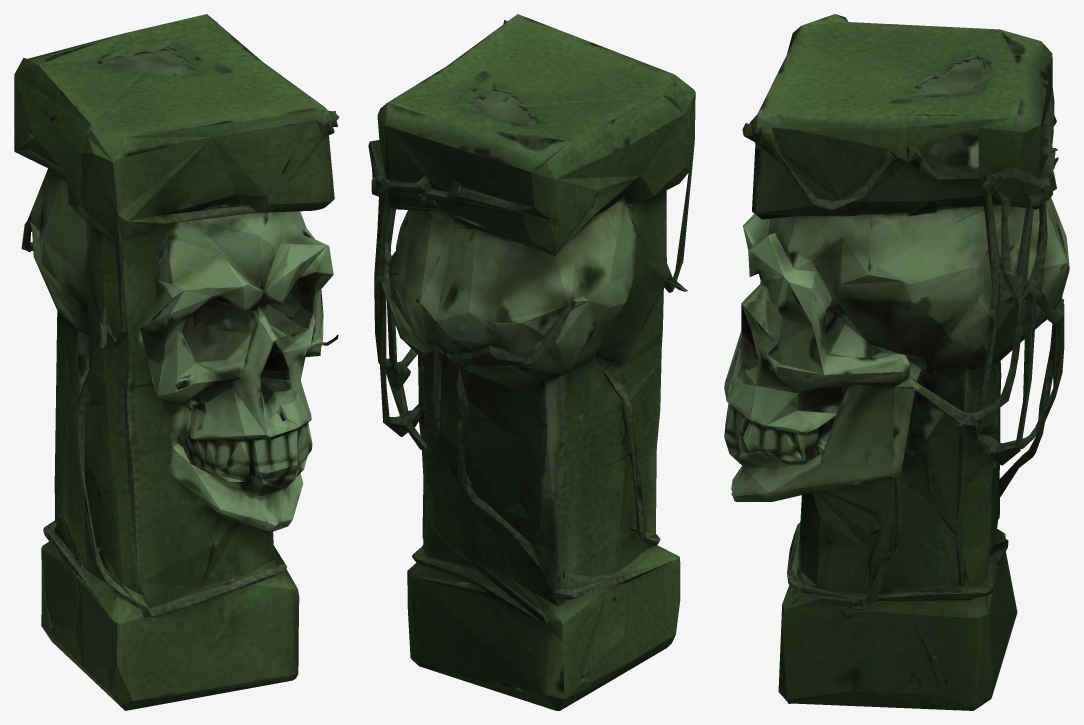
Rendered from fen_totem_mossy_01.glb.
The picture shows the model from 3 angles, left to right: view 1: azimuth 30°, elevation 25°; view 2: azimuth 150°, elevation 25°; view 3: azimuth 270°, elevation 25°; orthographic projection. The views are drawn at different scales.
Visible parts, largest first — view 1: geometry_0; view 2: geometry_0; view 3: geometry_0.
Part boxes in pixels (left/top/right/bottom): geometry_0: left=14, top=14, right=339, bottom=710; geometry_0: left=368, top=14, right=695, bottom=710; geometry_0: left=724, top=14, right=1069, bottom=710.
Bounding box in the file's own units: 0.422 × 0.9947 × 0.5176.
Materials: 1 (1 with a texture image).
